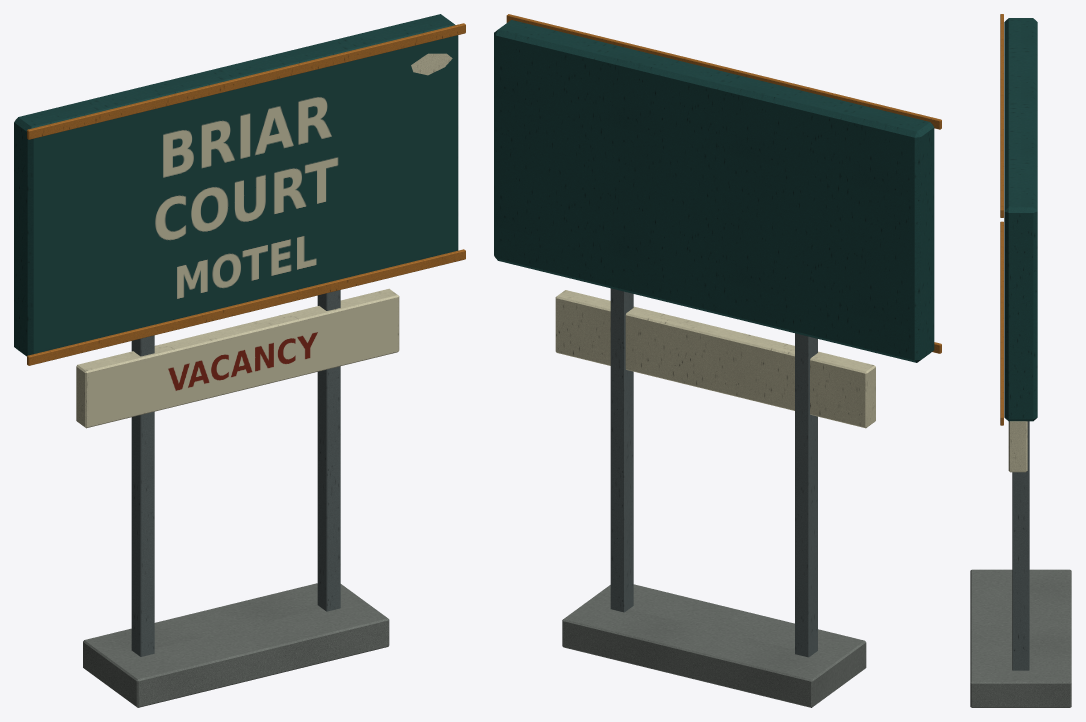
Rendered from roadside_sign.glb.
The picture shows the model from 3 angles, left to right: view 1: azimuth 30°, elevation 25°; view 2: azimuth 150°, elevation 25°; view 3: azimuth 270°, elevation 25°; orthographic projection. The views are drawn at different scales.
Parts seen in each view (by area): view 1: roadside_sign; view 2: roadside_sign; view 3: roadside_sign.
Boxes of the visible parts, x1,y1,x2,y2 form: roadside_sign: [14, 14, 465, 707]; roadside_sign: [494, 14, 941, 707]; roadside_sign: [970, 14, 1071, 707].
Bounding box in the file's own units: 3.2 × 4.11 × 0.7.
7 materials, 7 textured.
